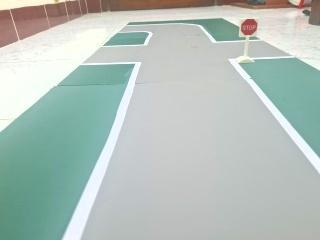stop: (239, 14, 261, 41)
